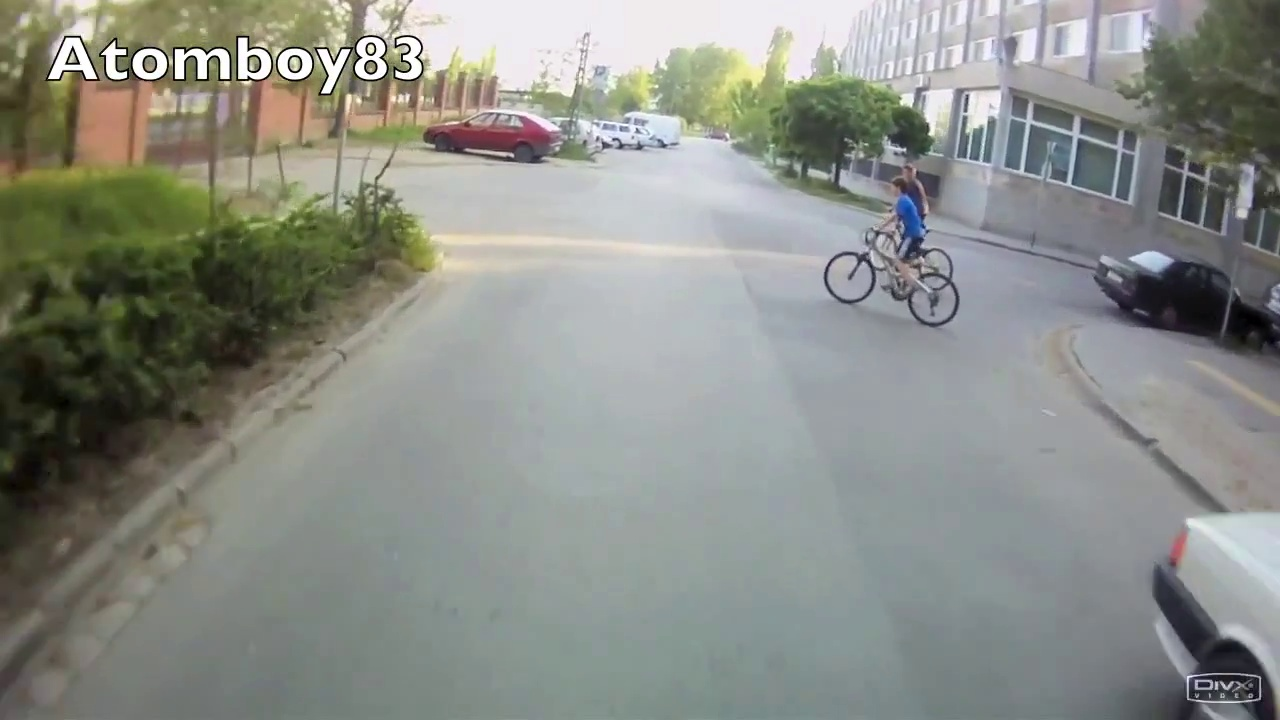cyclist_side: (817, 174, 966, 332)
